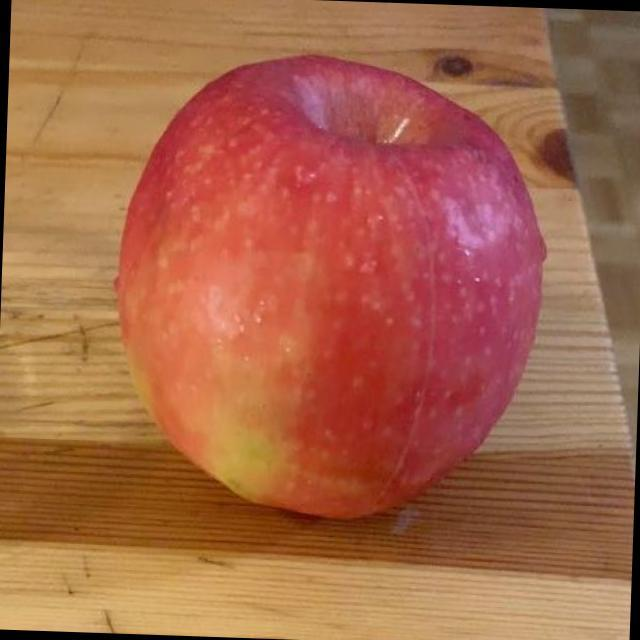Apple: (96, 31, 560, 534)
